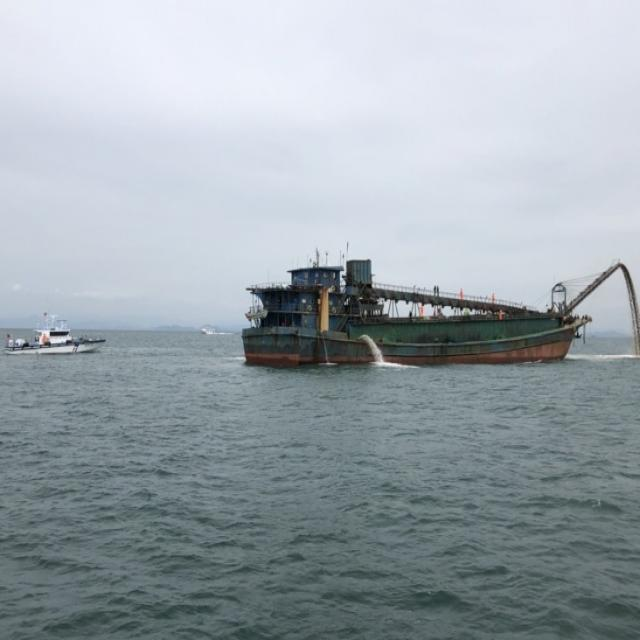cargoship: (246, 242, 588, 372)
houseboat: (0, 314, 108, 357)
